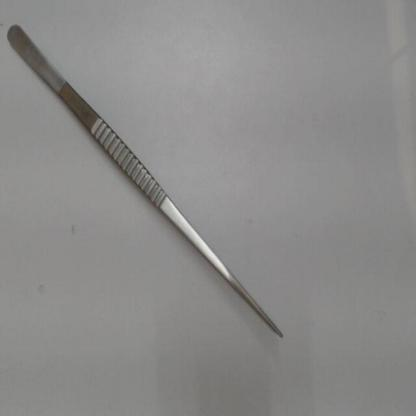DeBakey Dissector: (3, 11, 291, 346)
